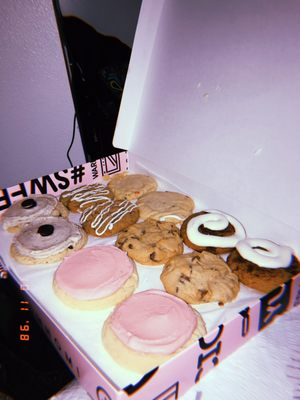salad: (159, 251, 240, 307), (226, 238, 300, 293), (9, 216, 86, 266), (116, 219, 183, 266), (182, 210, 246, 254), (107, 172, 159, 202)
sushi: (101, 289, 203, 368), (51, 244, 138, 312)
